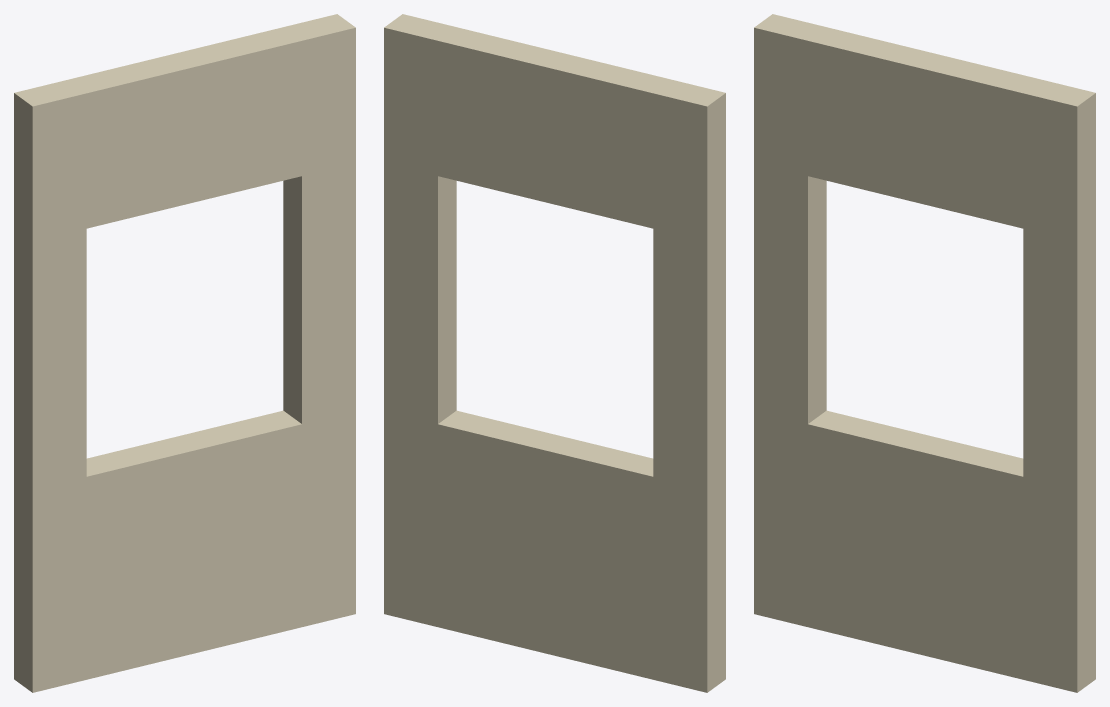
File: res_window_wall.glb
3 views of the same model, side by side, from view 1: azimuth 30°, elevation 25°; view 2: azimuth 150°, elevation 25°; view 3: azimuth 330°, elevation 25° (orthographic).
Parts seen in each view (by area): view 1: res_window_wall; view 2: res_window_wall; view 3: res_window_wall.
Boxes of the visible parts, x1,y1,x2,y2 form: res_window_wall: [14, 14, 355, 692]; res_window_wall: [384, 14, 725, 692]; res_window_wall: [754, 14, 1095, 692].
Bounding box in the file's own units: 1.5 × 2.6 × 0.15.
